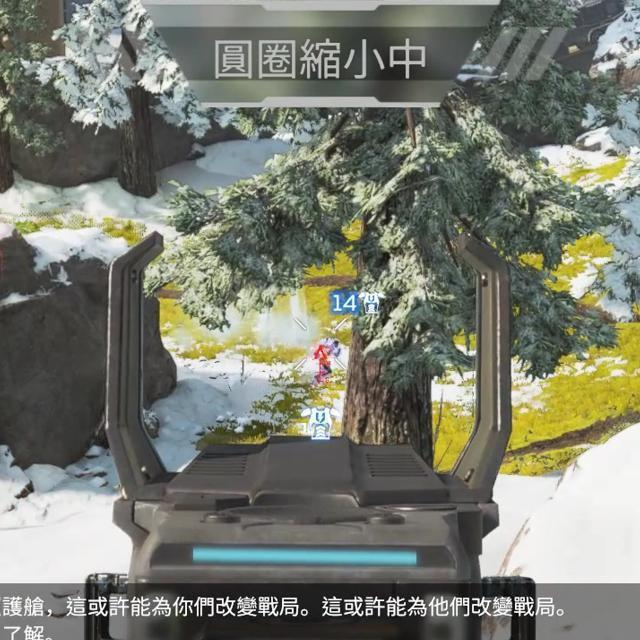avatar: (314, 337, 342, 384)
